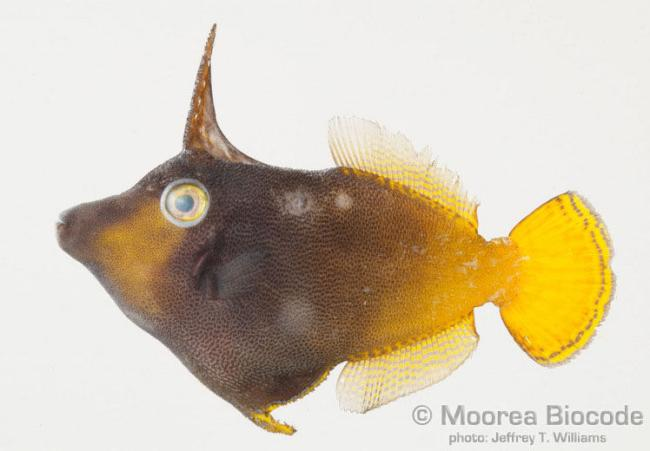fish: (55, 22, 617, 436)
